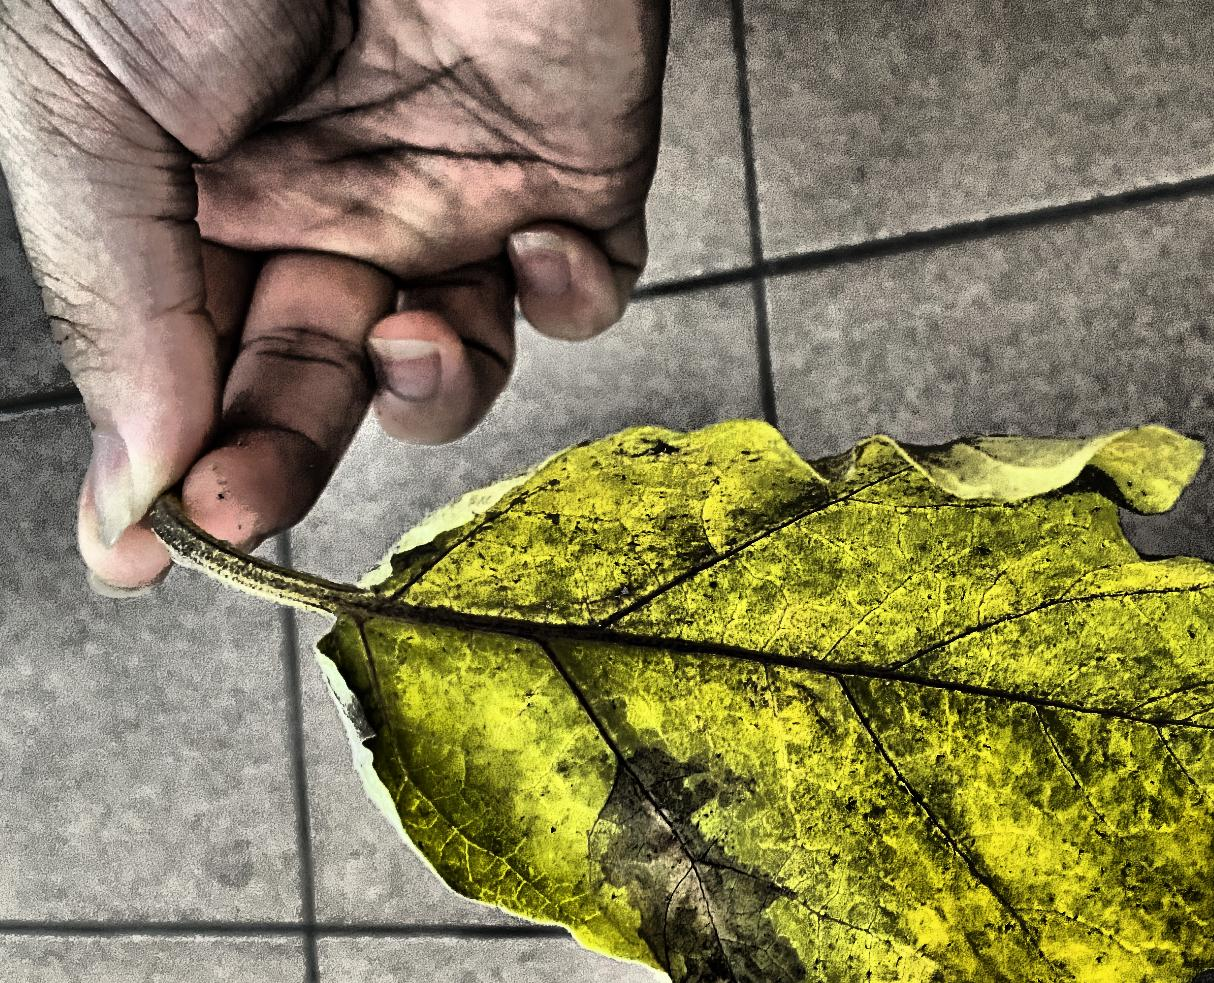Critical Stress: (0, 82, 901, 983)
